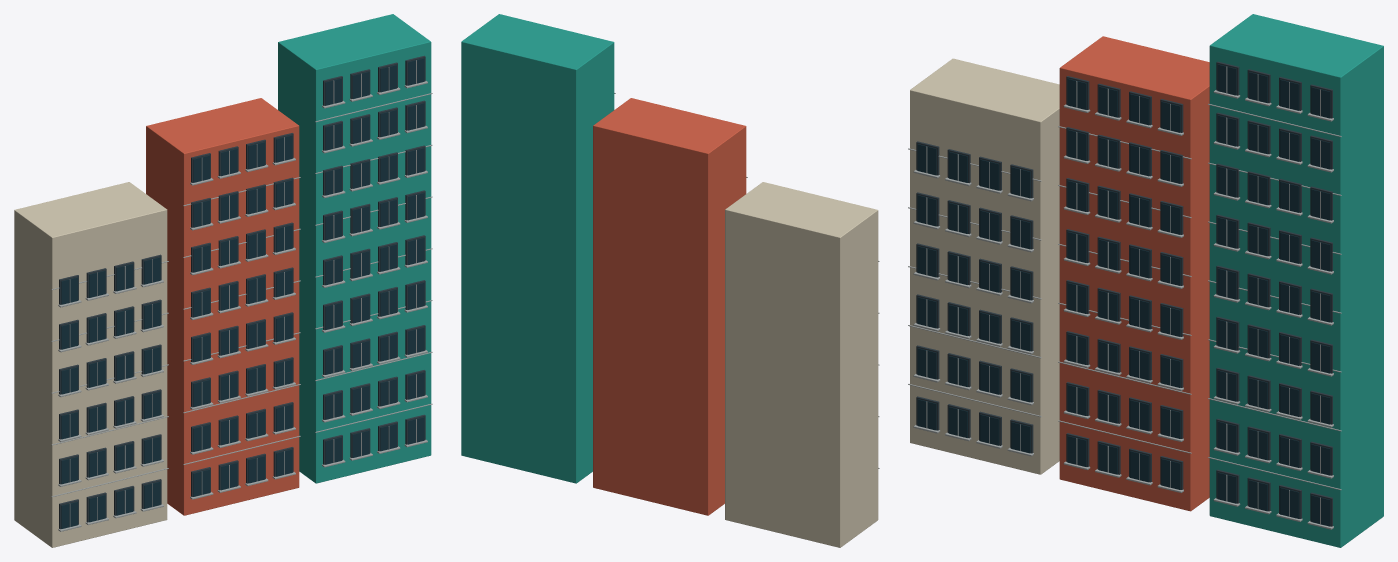
The model's file is slab-blocks.glb.
The picture shows the model from 3 angles, left to right: view 1: azimuth 30°, elevation 25°; view 2: azimuth 150°, elevation 25°; view 3: azimuth 330°, elevation 25°; orthographic projection. The views are drawn at different scales.
Parts seen in each view (by area): view 1: DC_Mesh_DC_Teal, DC_Mesh_DC_Ivory, DC_Mesh_DC_BlueGlass, DC_Mesh_DC_Coral, DC_Mesh_DC_Steel, DC_Mesh_DC_Concrete; view 2: DC_Mesh_DC_Teal, DC_Mesh_DC_Coral, DC_Mesh_DC_Ivory; view 3: DC_Mesh_DC_Teal, DC_Mesh_DC_BlueGlass, DC_Mesh_DC_Coral, DC_Mesh_DC_Ivory, DC_Mesh_DC_Steel, DC_Mesh_DC_Concrete.
Part boxes in pixels (x1=…): DC_Mesh_DC_Teal: x1=278, y1=14, x2=431, y2=483; DC_Mesh_DC_Ivory: x1=14, y1=182, x2=167, y2=547; DC_Mesh_DC_BlueGlass: x1=61, y1=58, x2=424, y2=528; DC_Mesh_DC_Coral: x1=146, y1=98, x2=299, y2=515; DC_Mesh_DC_Steel: x1=59, y1=55, x2=425, y2=529; DC_Mesh_DC_Concrete: x1=51, y1=60, x2=432, y2=531; DC_Mesh_DC_Teal: x1=461, y1=14, x2=614, y2=483; DC_Mesh_DC_Coral: x1=593, y1=98, x2=746, y2=515; DC_Mesh_DC_Ivory: x1=725, y1=182, x2=878, y2=547; DC_Mesh_DC_Teal: x1=1209, y1=14, x2=1383, y2=547; DC_Mesh_DC_BlueGlass: x1=917, y1=64, x2=1330, y2=526; DC_Mesh_DC_Coral: x1=1059, y1=36, x2=1209, y2=511; DC_Mesh_DC_Ivory: x1=910, y1=58, x2=1059, y2=474; DC_Mesh_DC_Steel: x1=916, y1=61, x2=1332, y2=526; DC_Mesh_DC_Concrete: x1=908, y1=66, x2=1341, y2=529.
Bounding box in the file's own units: 23.1 × 24 × 4.26.
